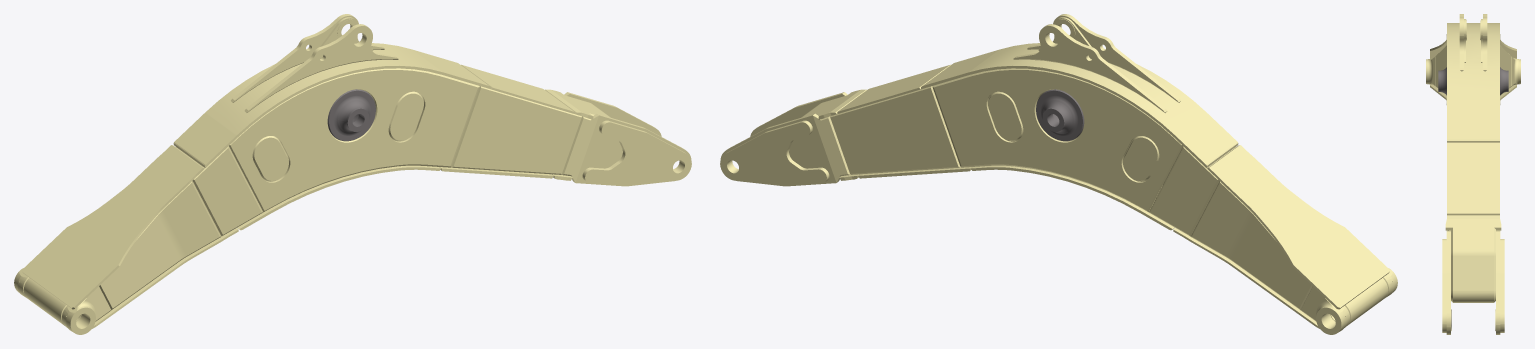
Rendered from SY870-Boom.dae.
3 renders of one model, left to right at view 1: azimuth 30°, elevation 25°; view 2: azimuth 150°, elevation 25°; view 3: azimuth 270°, elevation 25°, orthographic. The views are drawn at different scales.
Parts seen in each view (by area): view 1: SY870_BOOM_SOLID_1_Trimesh_Visual, SY870_BOOM_SOLID_2_Trimesh_Visual; view 2: SY870_BOOM_SOLID_1_Trimesh_Visual, SY870_BOOM_SOLID_2_Trimesh_Visual; view 3: SY870_BOOM_SOLID_1_Trimesh_Visual, SY870_BOOM_SOLID_2_Trimesh_Visual.
Boxes of the visible parts, box(x1,y1,x2,y2) form: SY870_BOOM_SOLID_1_Trimesh_Visual: box(14, 14, 691, 334); SY870_BOOM_SOLID_2_Trimesh_Visual: box(327, 89, 375, 141); SY870_BOOM_SOLID_1_Trimesh_Visual: box(720, 14, 1397, 334); SY870_BOOM_SOLID_2_Trimesh_Visual: box(1036, 89, 1084, 141); SY870_BOOM_SOLID_1_Trimesh_Visual: box(1426, 14, 1520, 334); SY870_BOOM_SOLID_2_Trimesh_Visual: box(1438, 67, 1508, 95).
Size of the model in its own units: 7.33 by 1.13 by 2.48.
